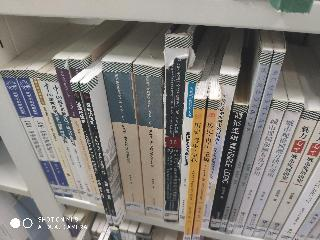book-spine: (223, 51, 284, 234), (217, 50, 271, 231), (249, 108, 319, 240), (240, 100, 303, 237), (52, 55, 108, 208), (227, 98, 288, 235), (1, 68, 62, 200), (102, 58, 152, 218), (15, 68, 71, 200), (259, 119, 320, 240), (28, 69, 80, 201), (193, 74, 237, 229), (38, 72, 87, 202), (47, 73, 94, 205), (70, 81, 112, 227), (81, 83, 119, 228), (158, 35, 187, 223), (206, 103, 248, 230), (133, 65, 163, 221), (190, 100, 218, 240), (182, 100, 203, 239), (180, 73, 199, 226), (69, 57, 85, 77)
